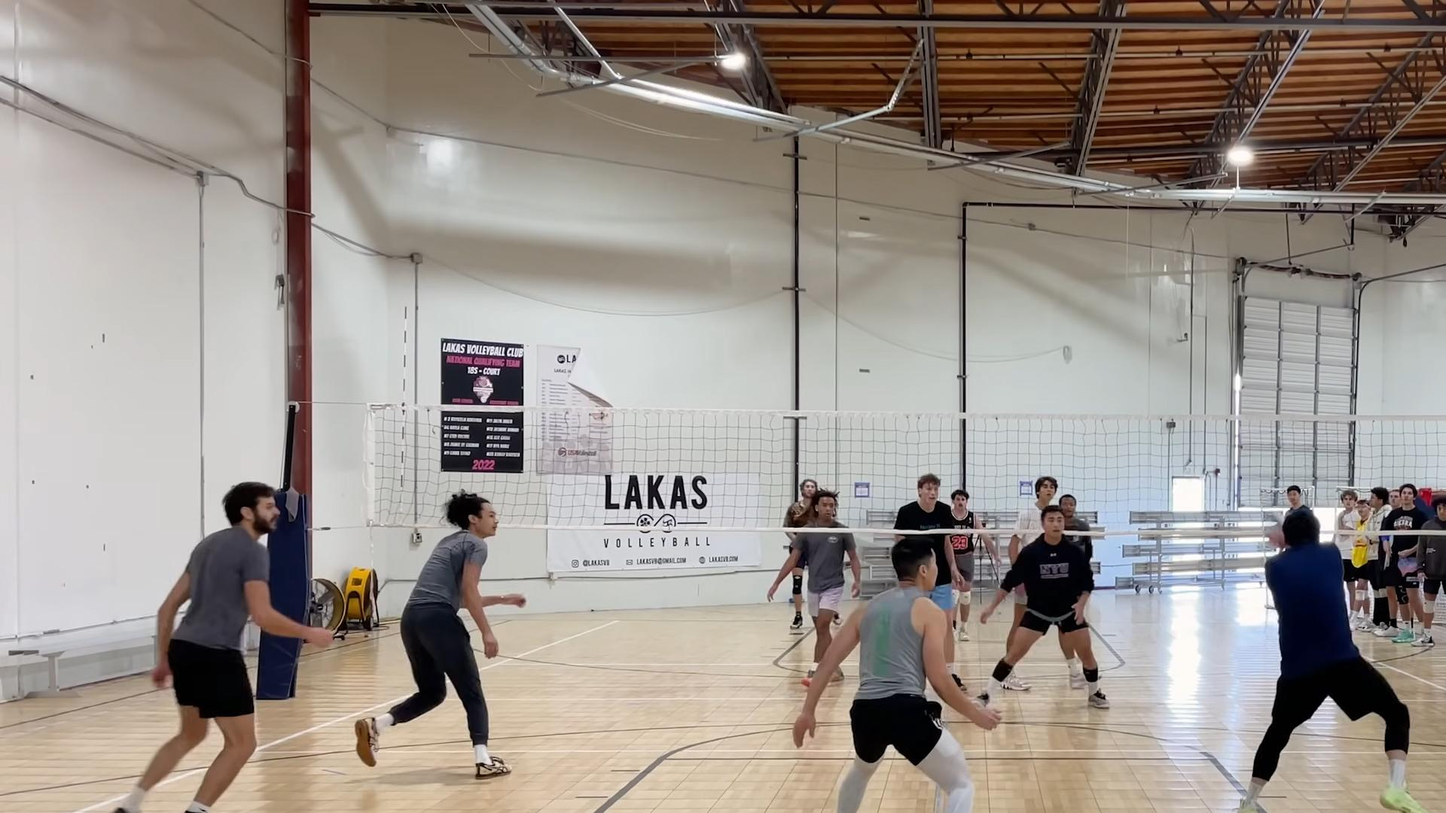ricezione: (1234, 502, 1431, 812)
